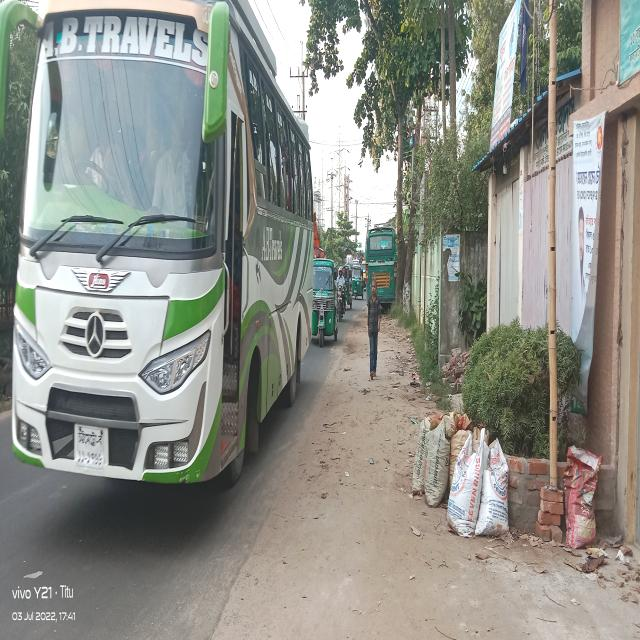bus: (3, 20, 320, 476), (363, 203, 401, 317)
